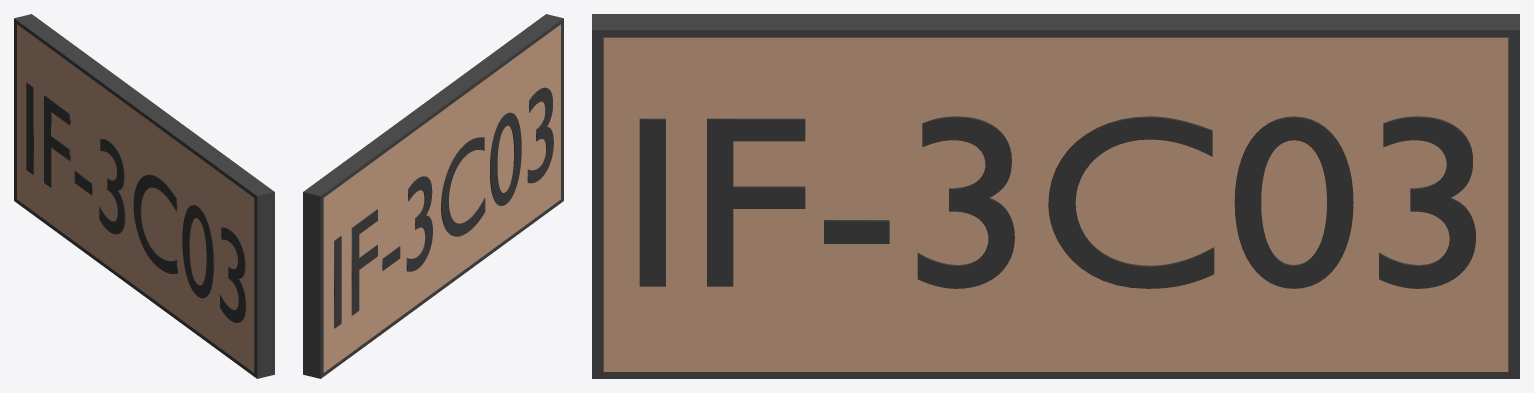
3 renders of one model, left to right at view 1: azimuth 30°, elevation 25°; view 2: azimuth 150°, elevation 25°; view 3: azimuth 270°, elevation 25°, orthographic. The views are drawn at different scales.
Visible parts, largest first — view 1: Cube; view 2: Cube; view 3: Cube.
Boxes of the visible parts, <box> form: Cube: <box>14,14,274,378</box>; Cube: <box>303,14,563,378</box>; Cube: <box>592,14,1519,378</box>.
Size of the model in its own units: 11.57 by 102 by 247.
